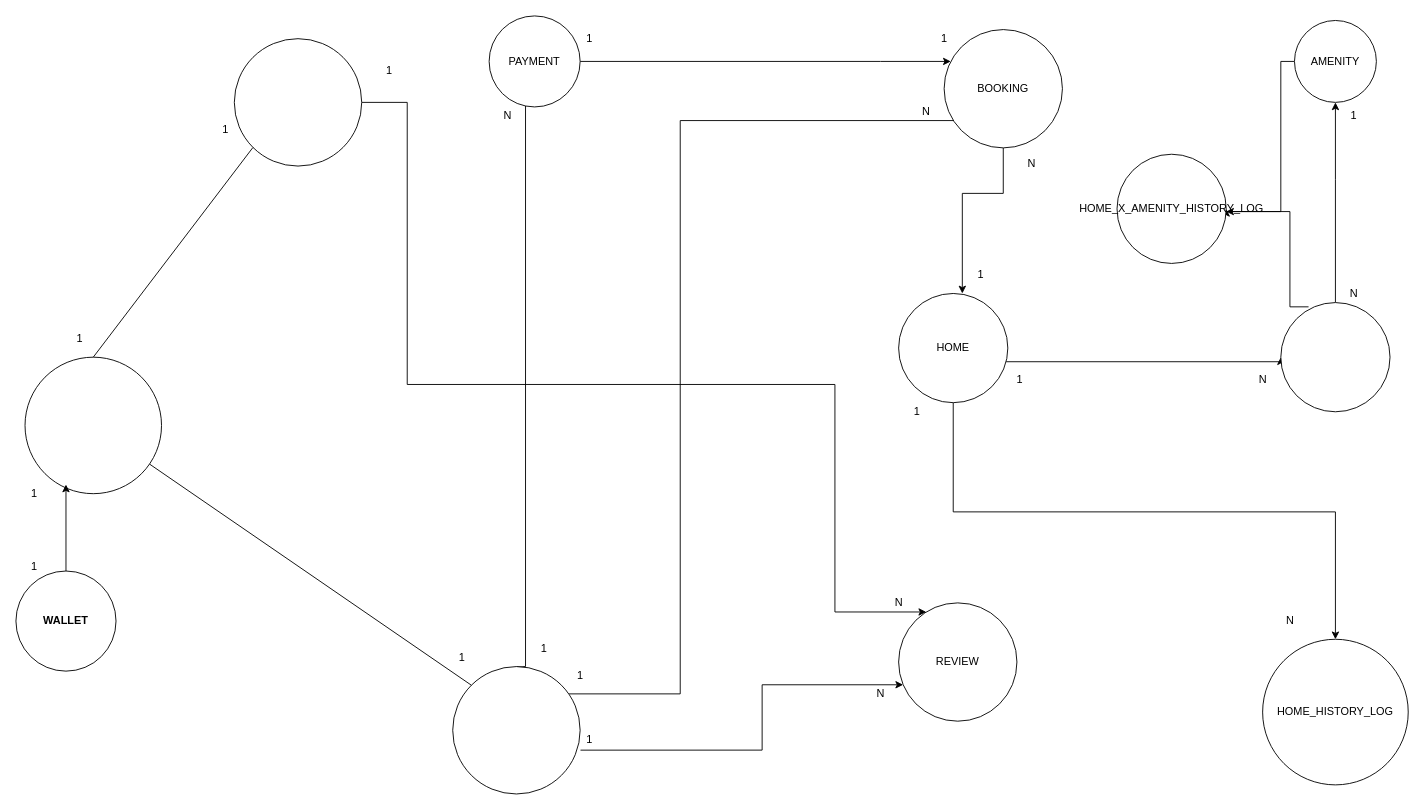
Image size: 1424x810. Some labels were removed from this diagram. The shapes that lost their labels are listed below. From the top down, each one's box as (x1, y1, x2, y2) in pixels, then its label:
(233, 38, 362, 166): HOST
(1280, 302, 1390, 412): HOME_X_AMENITY
(24, 356, 162, 494): USER
(452, 666, 580, 794): RENTER
